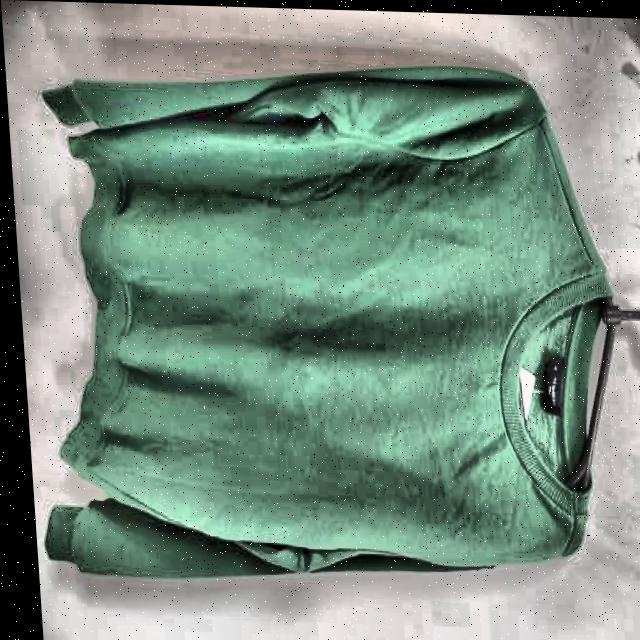clothes: (3, 44, 636, 595)
